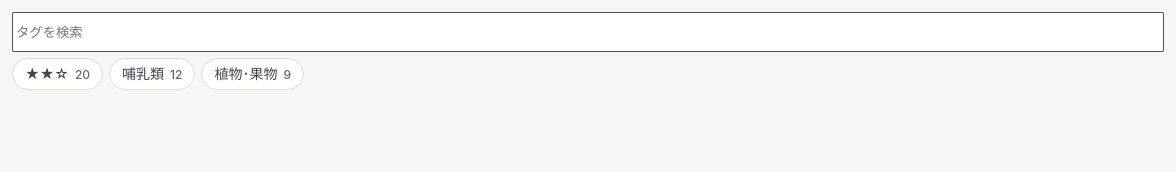
Test case: TagPicker › 検索で候補を絞り込む
The image size is (1176, 172).
Type "植物" into the search field labelled "タグを検索".
click(588, 32); type("植物")  # box [12, 12, 1164, 52]
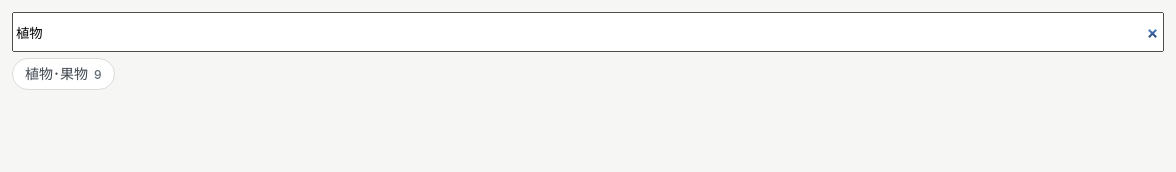
Expected: the element named "タグの候補" shows "植物･果物", [12, 58, 115, 90]
Expected: the button "タグの候補" no longer shows "哺乳類"
